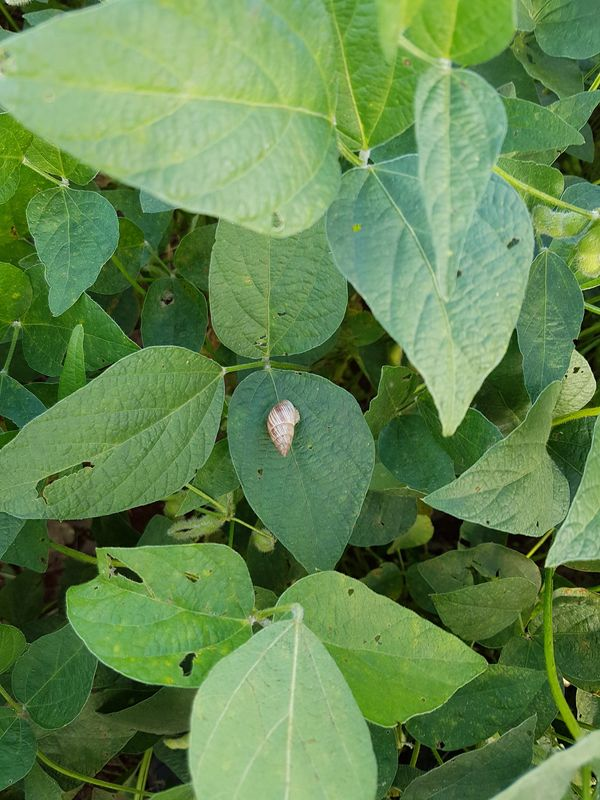Gastropoda: (253, 392, 314, 466)
